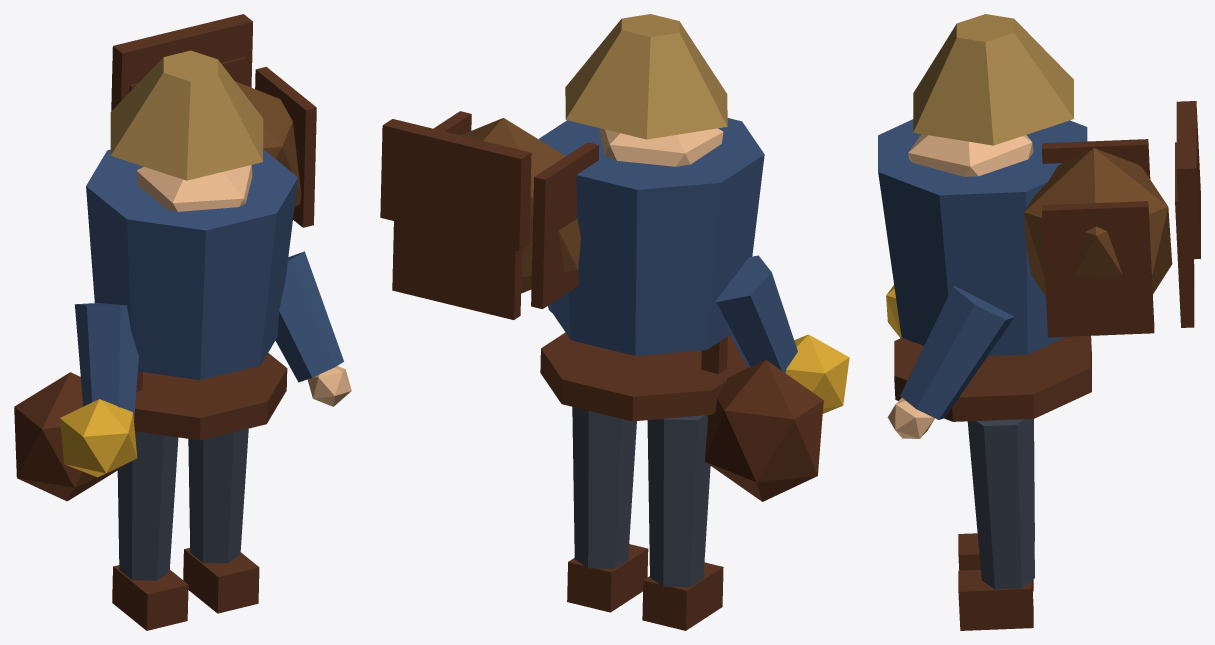
File: npcpose_merchant_idle_07.glb
3 views of the same model, side by side, from view 1: azimuth 30°, elevation 25°; view 2: azimuth 150°, elevation 25°; view 3: azimuth 270°, elevation 25° (orthographic). The views are drawn at different scales.
Parts seen in each view (by area): view 1: npcpose; view 2: npcpose; view 3: npcpose.
Part boxes in pixels (box(x1,y1,x2,y2)): npcpose: box(14, 14, 351, 630); npcpose: box(380, 14, 849, 630); npcpose: box(878, 14, 1200, 630).
Bounding box in the file's own units: 1.2 × 1.91 × 0.9689.
